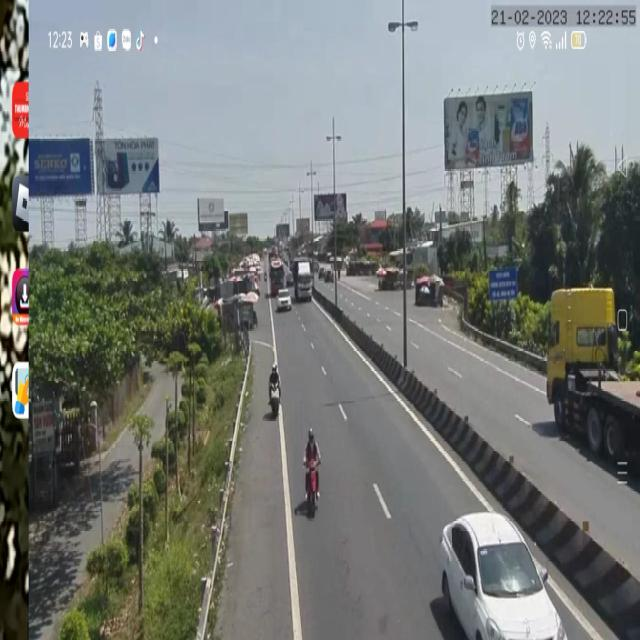bus: (269, 260, 285, 297)
car: (434, 514, 564, 640), (276, 292, 291, 313)
motorbike: (302, 425, 324, 518), (268, 362, 282, 422)
truck: (545, 280, 640, 502), (292, 259, 315, 303)
